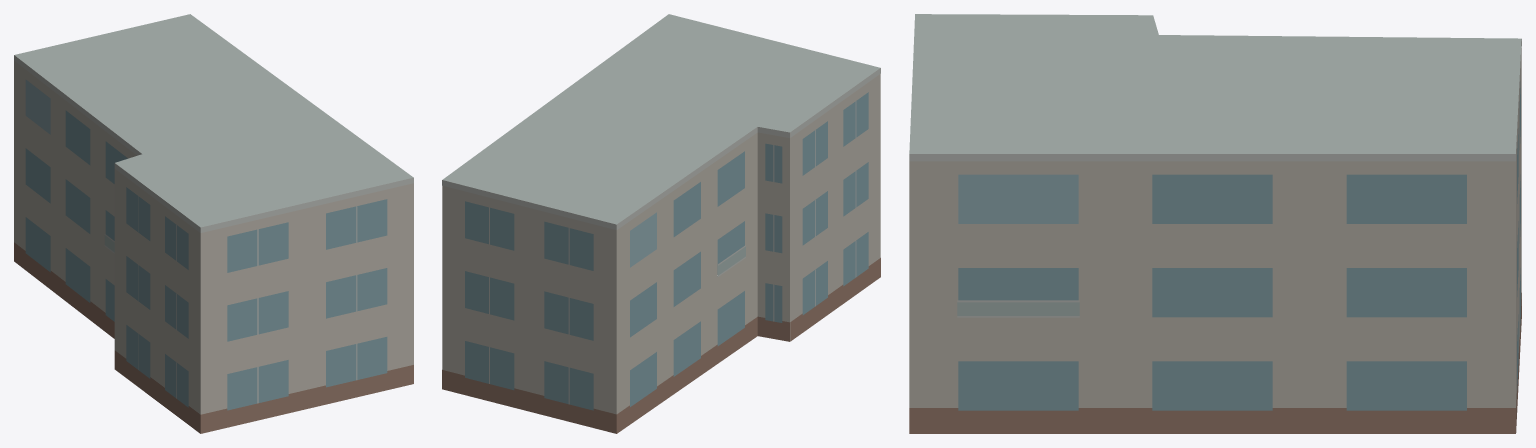
The model's file is residential-e1af313a-f090-4ee4-aa9e-5bfd00275466.glb.
The picture shows the model from 3 angles, left to right: view 1: azimuth 30°, elevation 25°; view 2: azimuth 150°, elevation 25°; view 3: azimuth 270°, elevation 25°; orthographic projection. The views are drawn at different scales.
Visible parts, largest first — view 1: residential-e1af313a-f090-4ee4-aa9e-5bfd00275466.tmp; view 2: residential-e1af313a-f090-4ee4-aa9e-5bfd00275466.tmp; view 3: residential-e1af313a-f090-4ee4-aa9e-5bfd00275466.tmp.
Part boxes in pixels (bbox=[...]): residential-e1af313a-f090-4ee4-aa9e-5bfd00275466.tmp: bbox=[14, 14, 413, 433]; residential-e1af313a-f090-4ee4-aa9e-5bfd00275466.tmp: bbox=[442, 14, 880, 433]; residential-e1af313a-f090-4ee4-aa9e-5bfd00275466.tmp: bbox=[909, 14, 1521, 433].
Bounding box in the file's own units: 9.68 × 9 × 17.85.
